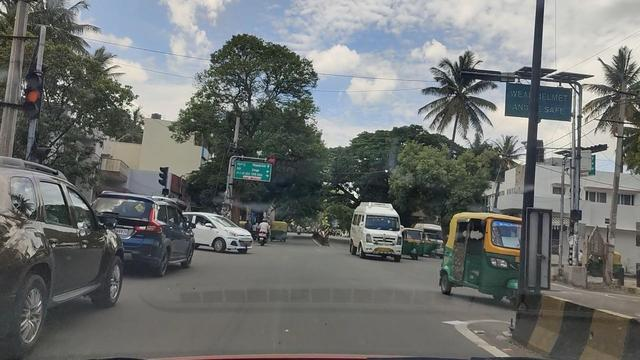LMV: (3, 154, 123, 346), (105, 186, 196, 273), (203, 204, 252, 266)
